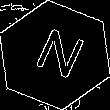N_SW: (24, 24, 86, 86)
